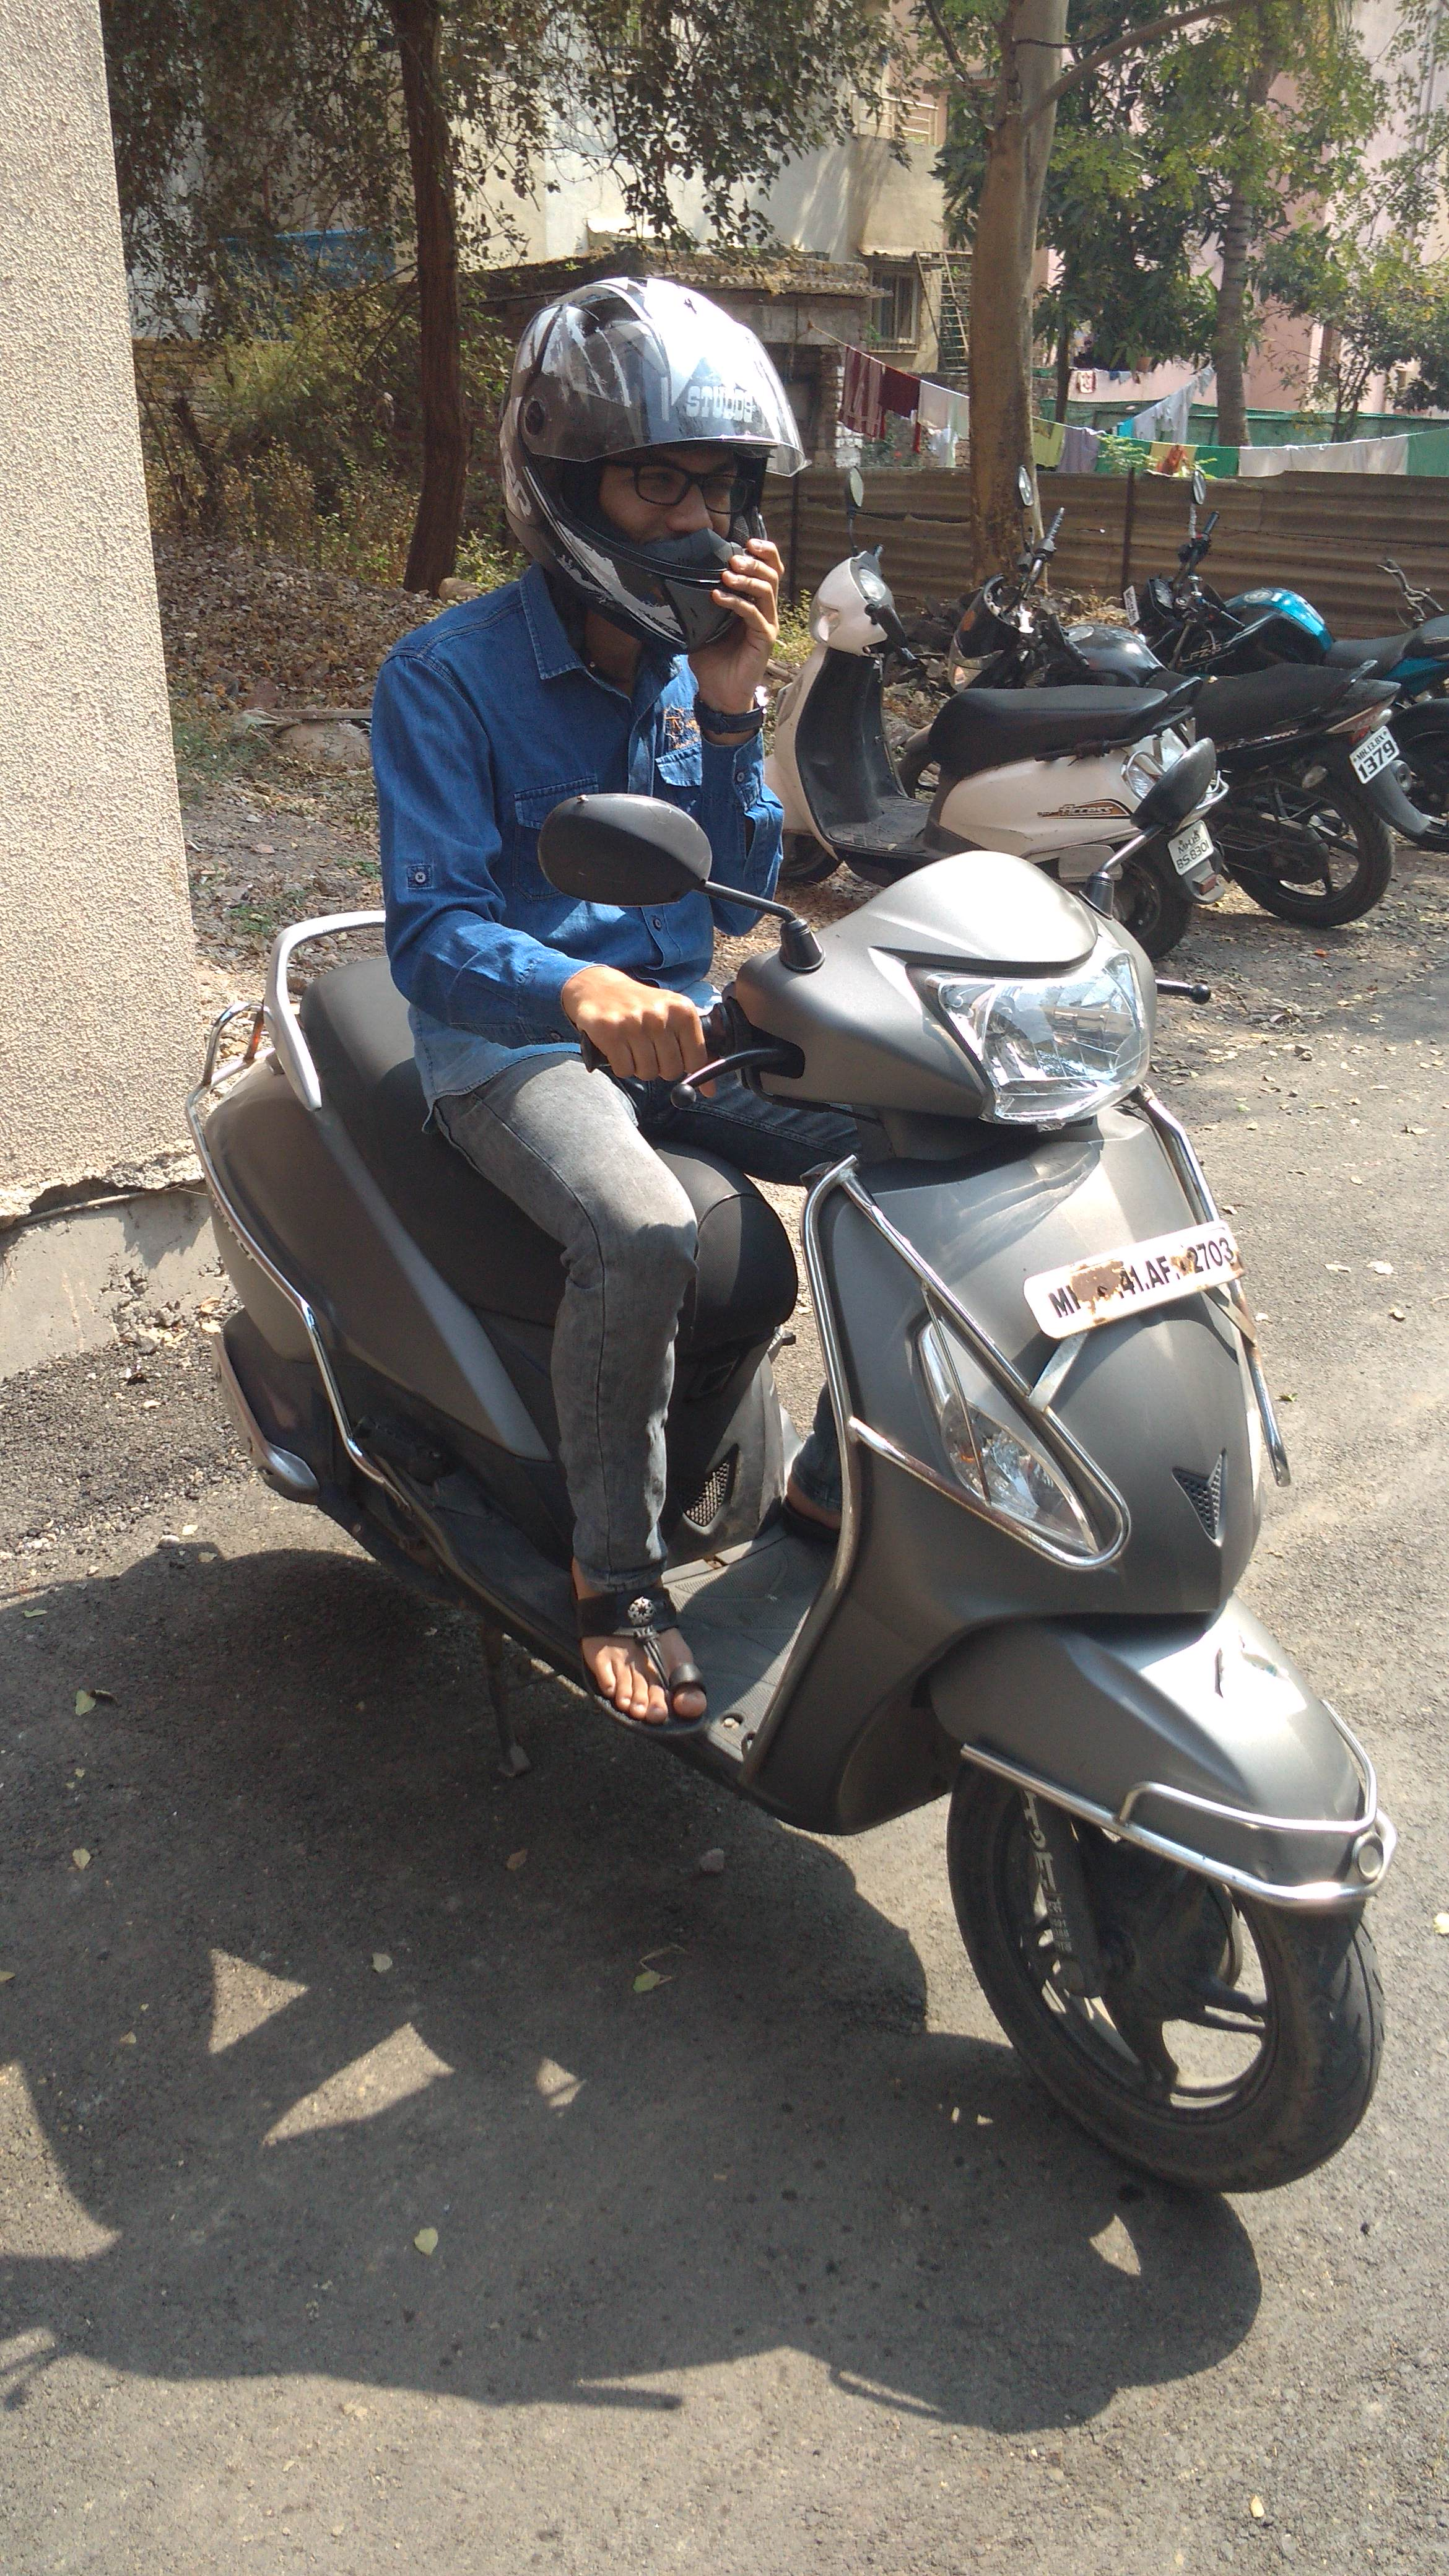helmet: (311, 235, 959, 1329)
